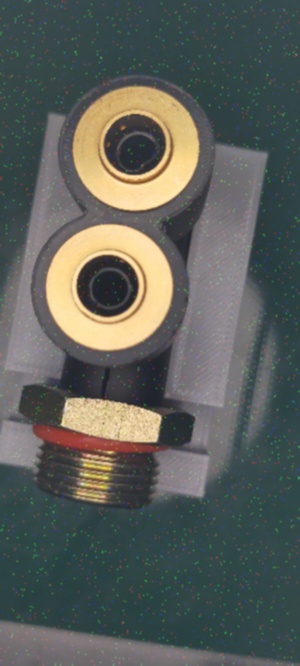craze: (98, 367, 116, 401)
off-centered: (113, 125, 171, 181)
